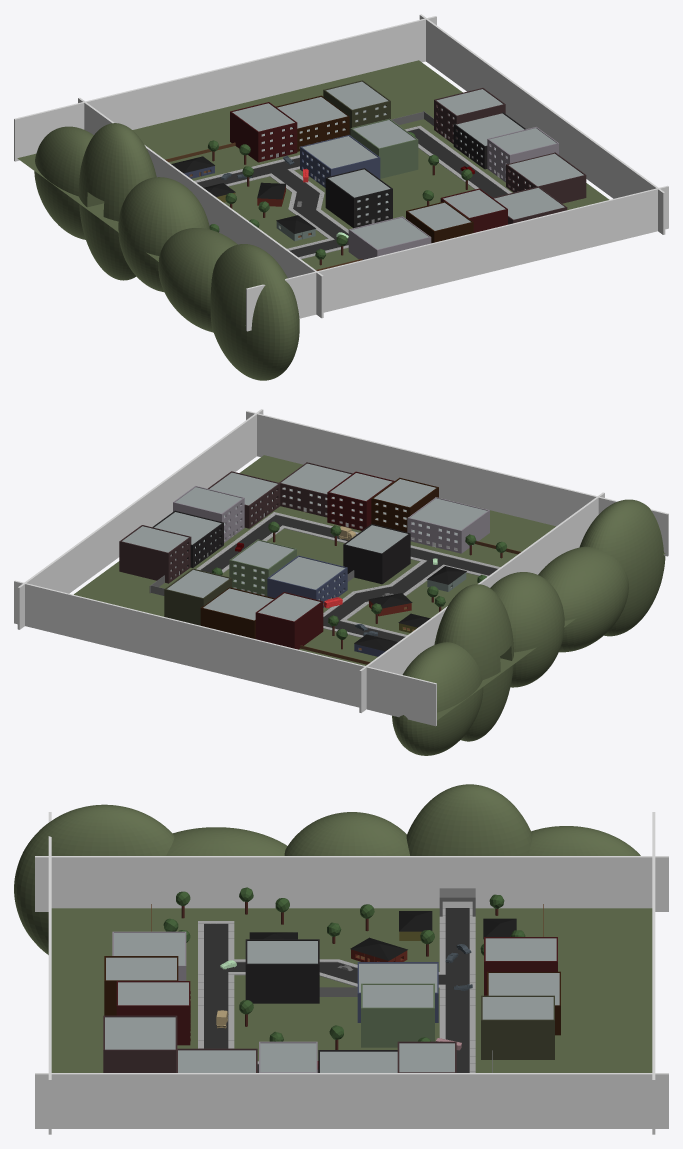
The model's file is ProjectMonsterConnceptMapTWO.fbx.
The picture shows the model from 3 angles, top to bottom: view 1: azimuth 30°, elevation 25°; view 2: azimuth 150°, elevation 25°; view 3: azimuth 270°, elevation 25°; orthographic projection. The views are drawn at different scales.
Visible parts, largest first — view 1: Barrier, Hills, Baseplate, Road, Door Large.007, Door Large.003, Door Large.008, Door Large.011, Ceiling.044, Ceiling.050, Ceiling.053, Door Large.014 (+19 smaller); view 2: Barrier, Hills, Baseplate, Road, Door Large.001, Door Large.007, Door Large.003, Door Large.013, Door Large.005, Door Large.002, Door Large.014, Door Large.008 (+20 smaller); view 3: Barrier, Baseplate, Hills, Road, Door Large.007, Door Large.002, Door Large.008, Ceiling.047, Door Large.012, Ceiling.044, Ceiling.041, Ceiling.015 (+18 smaller).
Part boxes in pixels (left/top/right/bottom): Barrier: left=14, top=14, right=668, bottom=331; Hills: left=34, top=123, right=299, bottom=380; Baseplate: left=17, top=60, right=609, bottom=325; Road: left=194, top=125, right=511, bottom=259; Door Large.007: left=325, top=168, right=392, bottom=228; Door Large.003: left=230, top=102, right=297, bottom=162; Door Large.008: left=350, top=118, right=418, bottom=178; Door Large.011: left=506, top=152, right=586, bottom=203; Ceiling.044: left=509, top=153, right=583, bottom=186; Ceiling.050: left=351, top=217, right=428, bottom=249; Ceiling.053: left=302, top=136, right=377, bottom=168; Door Large.014: left=300, top=135, right=380, bottom=187; Barrier: left=14, top=409, right=668, bottom=726; Hills: left=392, top=499, right=665, bottom=755; Baseplate: left=74, top=455, right=665, bottom=720; Road: left=196, top=512, right=500, bottom=641; Door Large.001: left=119, top=525, right=191, bottom=583; Door Large.007: left=343, top=524, right=410, bottom=584; Door Large.003: left=255, top=592, right=323, bottom=649; Door Large.013: left=407, top=497, right=489, bottom=553; Door Large.005: left=327, top=471, right=394, bottom=530; Door Large.002: left=164, top=568, right=231, bottom=625; Door Large.014: left=267, top=555, right=347, bottom=607; Door Large.008: left=229, top=539, right=296, bottom=596; Barrier: left=35, top=812, right=668, bottom=1134; Baseplate: left=51, top=908, right=652, bottom=1072; Hills: left=14, top=784, right=640, bottom=954; Road: left=198, top=907, right=475, bottom=1072; Door Large.007: left=245, top=939, right=319, bottom=1003; Door Large.002: left=481, top=995, right=554, bottom=1059; Door Large.008: left=361, top=983, right=434, bottom=1047; Ceiling.047: left=105, top=1017, right=175, bottom=1049; Door Large.012: left=103, top=1015, right=177, bottom=1072; Ceiling.044: left=178, top=1050, right=255, bottom=1072; Ceiling.041: left=320, top=1051, right=397, bottom=1072; Ceiling.015: left=260, top=1043, right=316, bottom=1072.
Size of the model in its own units: 21396 by 7200 by 21700.
